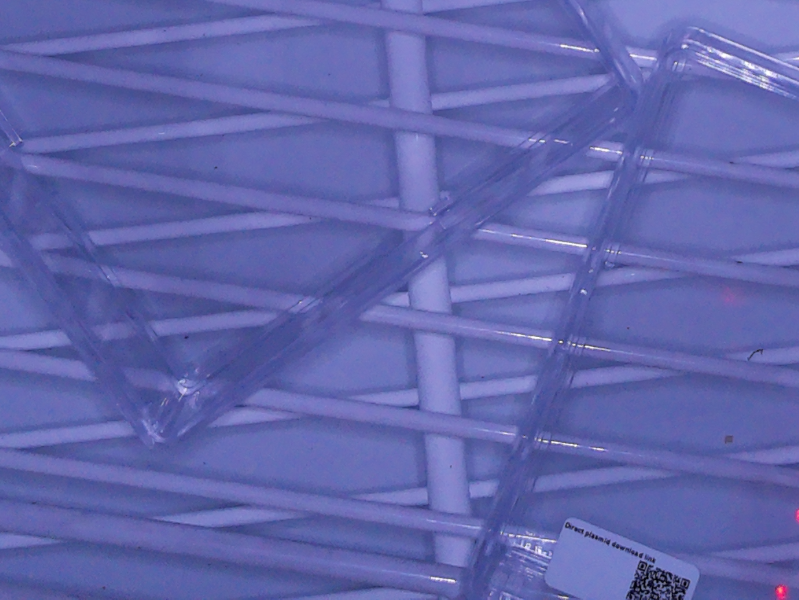plate: (1, 1, 647, 451), (457, 22, 799, 600)
